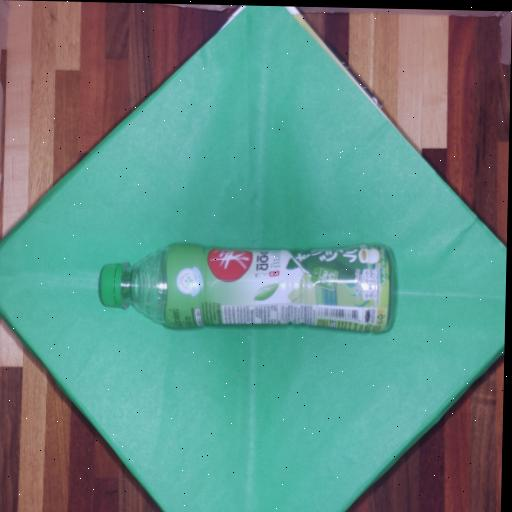bottle: (99, 244, 390, 332)
